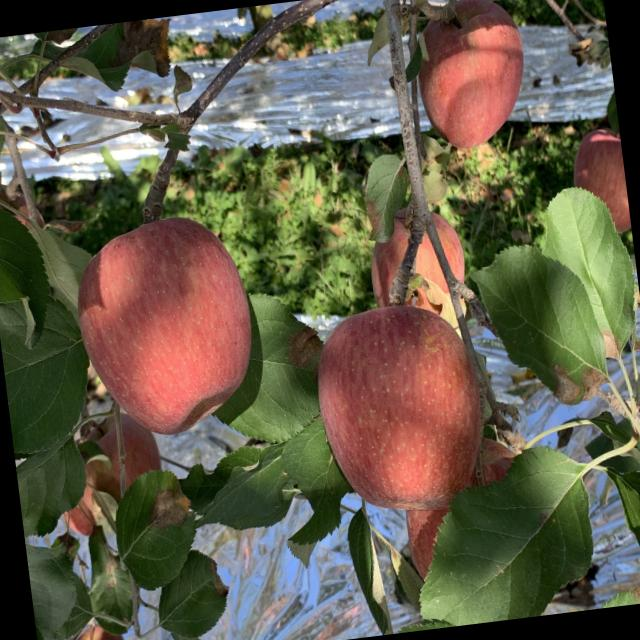fresh: (61, 201, 273, 454), (301, 288, 501, 528), (400, 1, 541, 163)
